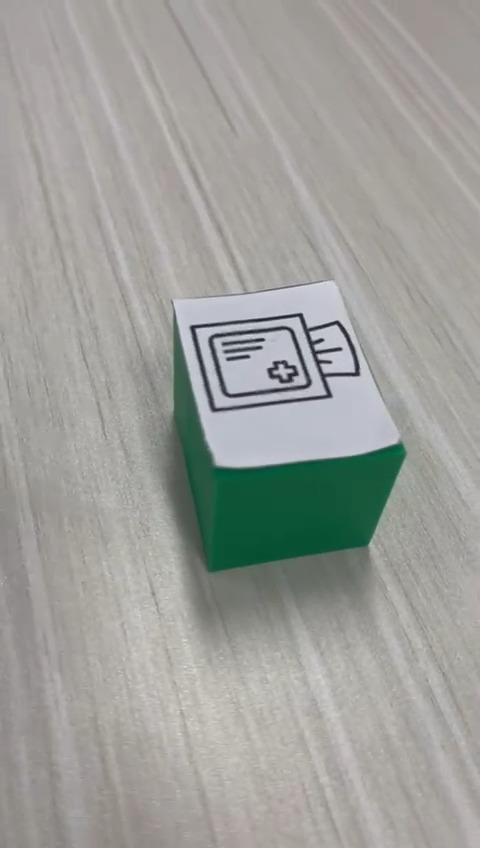Gauze: (170, 278, 407, 573)
